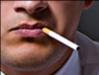Cigarette: (42, 26, 80, 50)
